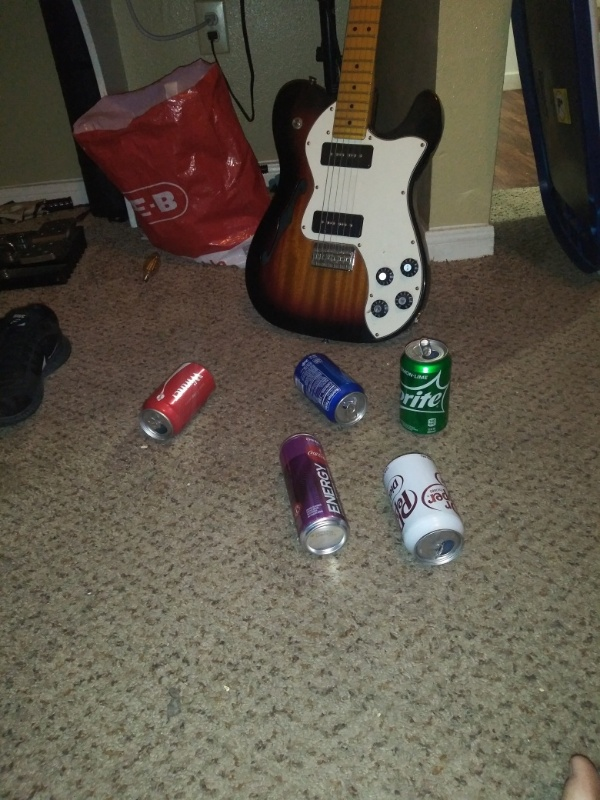can: (381, 449, 470, 571), (278, 429, 351, 561), (138, 359, 217, 446), (290, 349, 372, 429), (394, 336, 456, 439)
